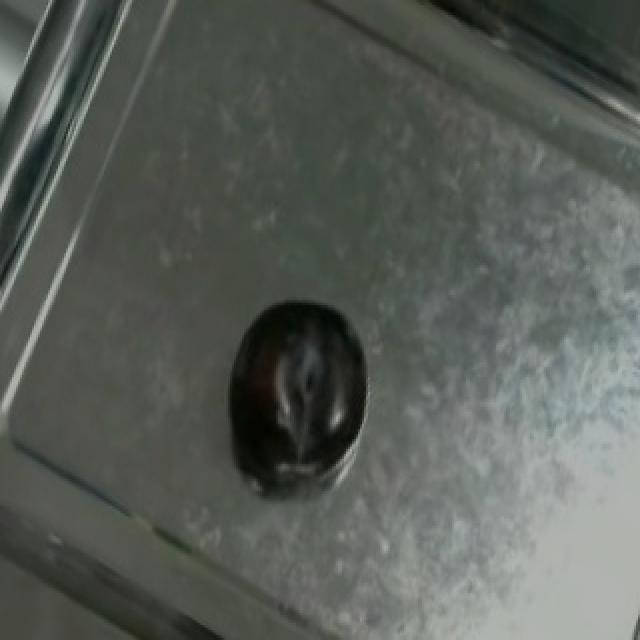Fruit: (208, 278, 376, 486)
